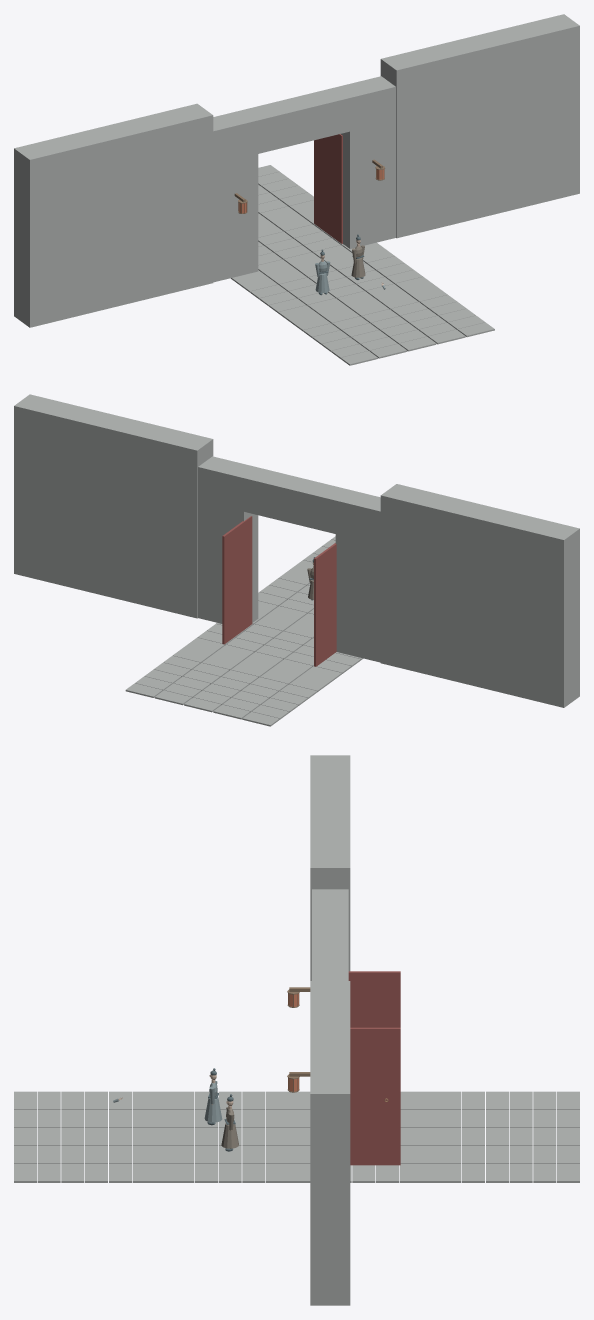
The picture shows the model from 3 angles, top to bottom: view 1: azimuth 30°, elevation 25°; view 2: azimuth 150°, elevation 25°; view 3: azimuth 270°, elevation 25°; orthographic projection. The views are drawn at different scales.
Visible parts, largest first — view 1: gatewall (×2), lintel, right_pier, left_pier, door_leaf; view 2: gatewall (×2), lintel, left_pier, door_leaf (×2), right_pier; view 3: gatewall (×2), door_leaf (×2), lintel.
Boxes of the visible parts, <box> form: gatewall (×2): <box>14,14,579,327</box>; lintel: <box>213,76,395,164</box>; right_pier: <box>341,94,395,248</box>; left_pier: <box>213,129,258,282</box>; door_leaf: <box>314,134,342,243</box>; gatewall (×2): <box>14,394,579,707</box>; lintel: <box>198,456,380,544</box>; left_pier: <box>335,509,380,662</box>; door_leaf (×2): <box>222,516,336,666</box>; right_pier: <box>198,474,258,623</box>; gatewall (×2): <box>310,755,350,1305</box>; door_leaf (×2): <box>348,971,400,1165</box>; lintel: <box>312,889,348,980</box>.
Size of the model in its own units: 24 by 7.06 by 16.95.
